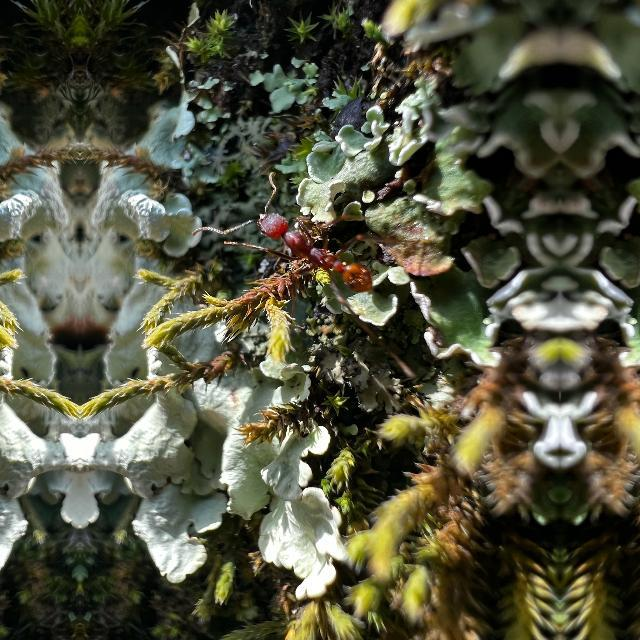Apheanogaster: (242, 184, 391, 320)
